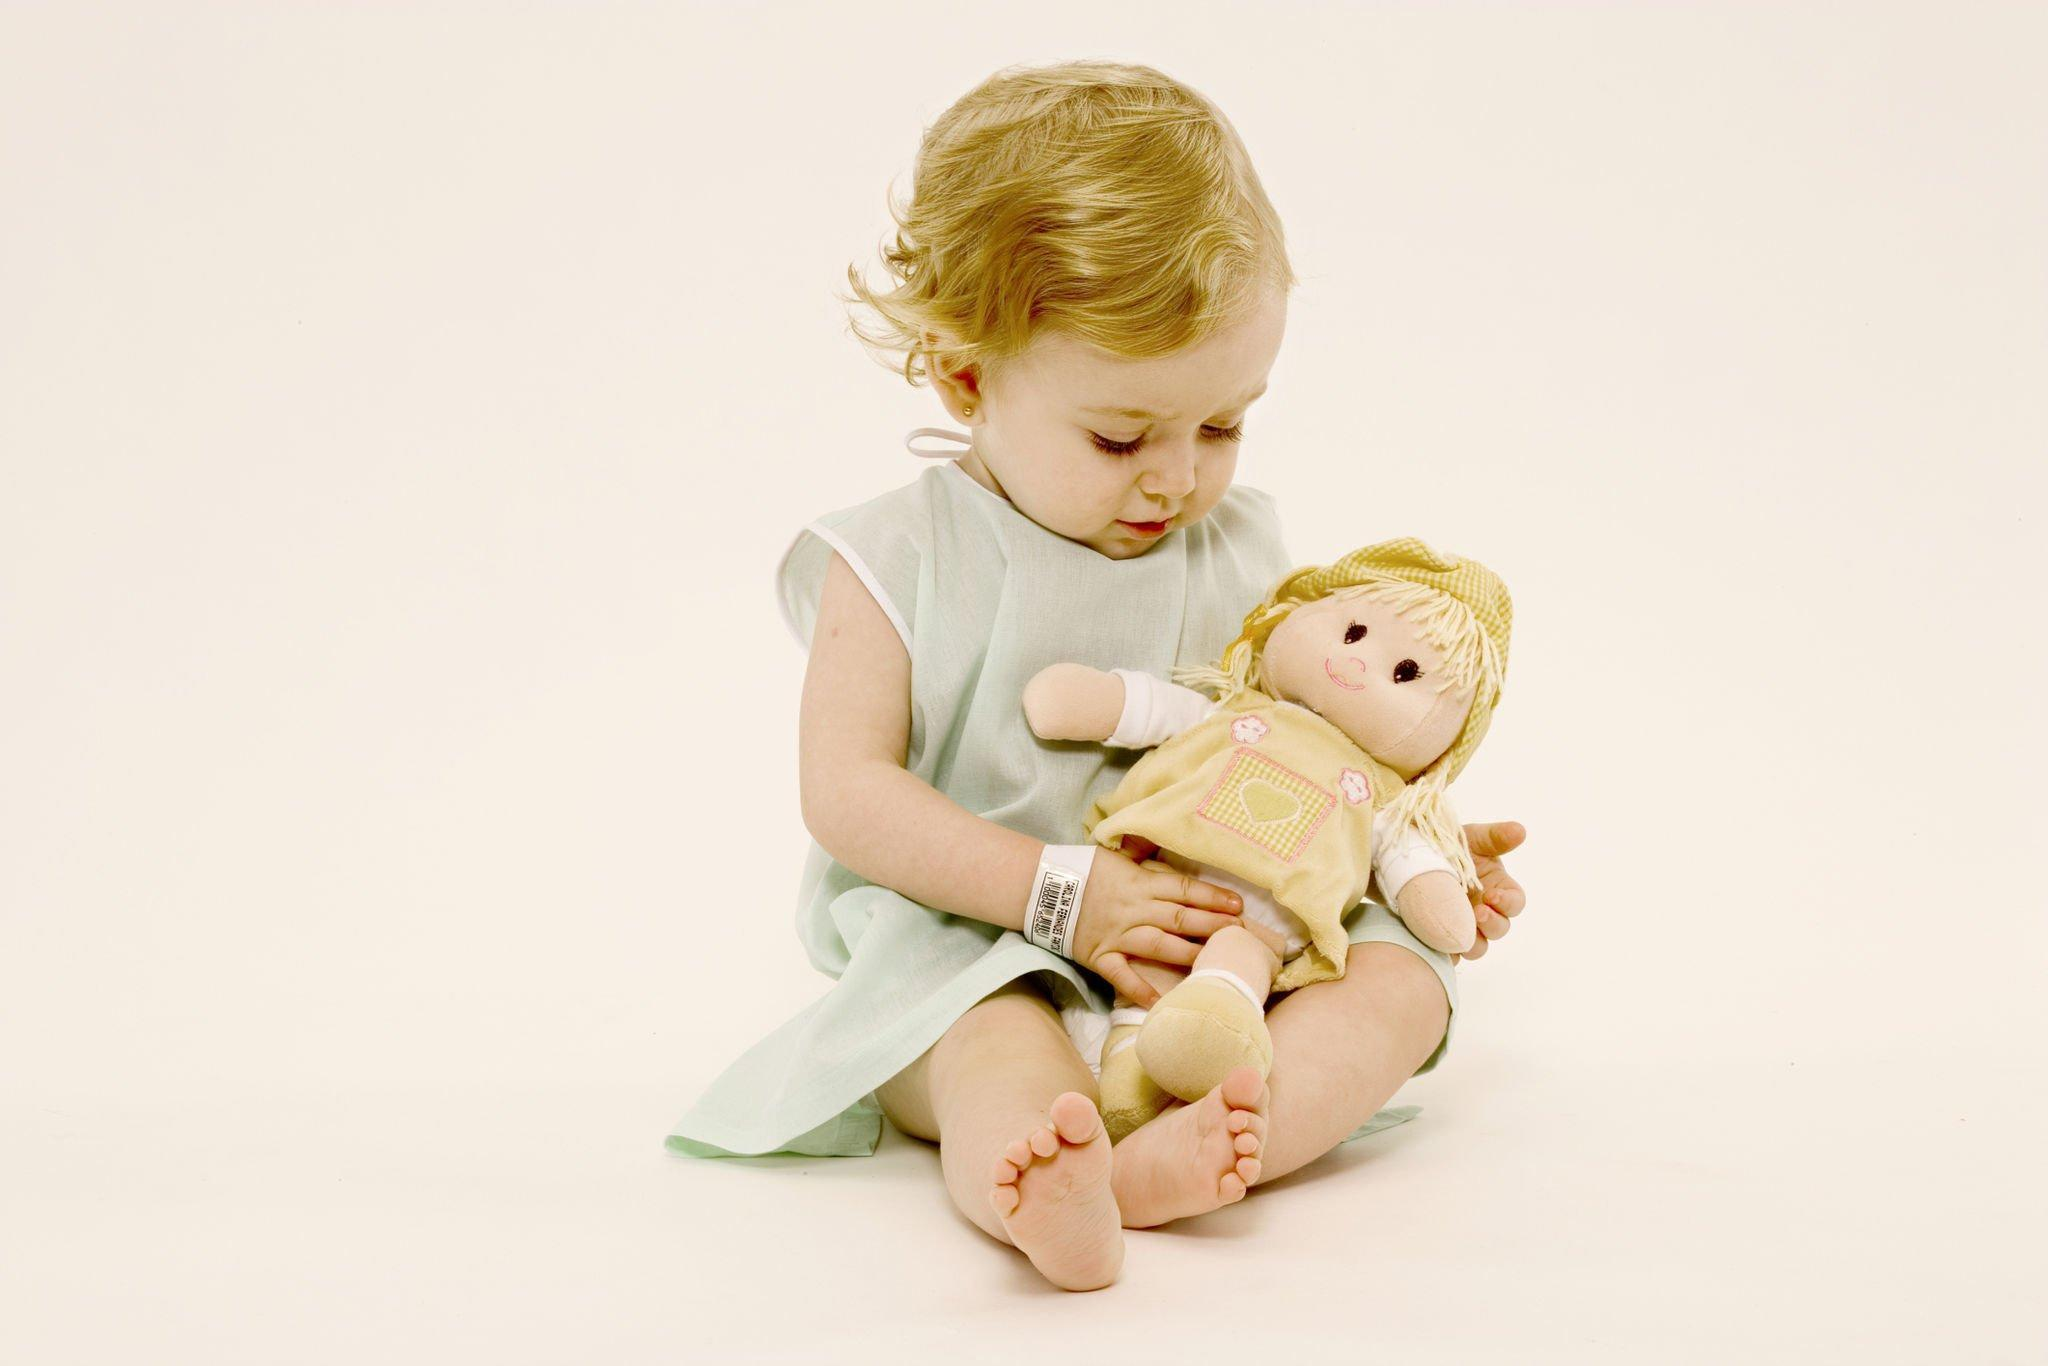Healthy: (1007, 216, 1309, 566)
